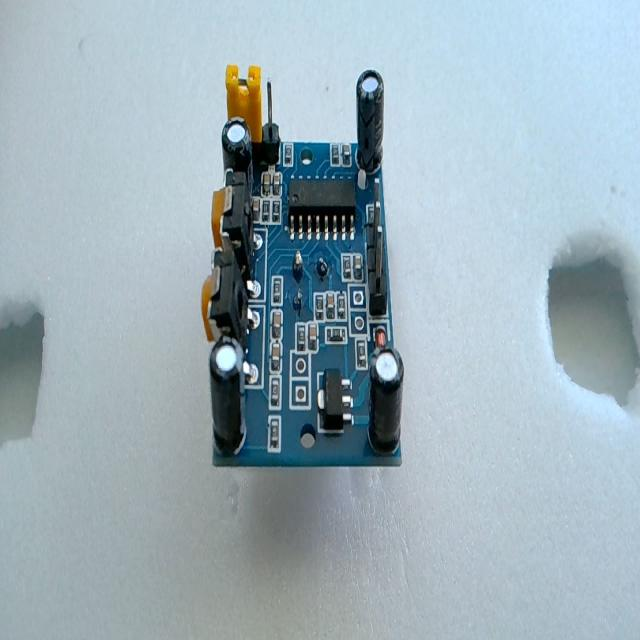Electrolytic capacitor: (208, 337, 247, 454), (367, 346, 404, 457), (355, 68, 384, 176), (221, 117, 253, 195)
IC: (286, 178, 355, 239)
pinheader: (363, 197, 393, 316)
